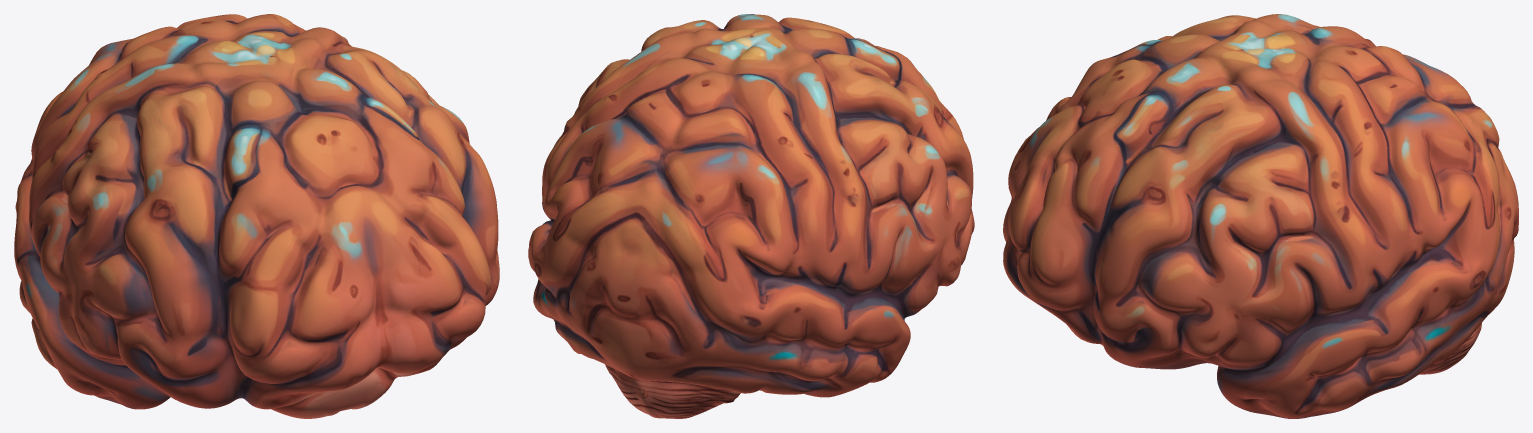
The model's file is brain.fbx.
The picture shows the model from 3 angles, left to right: view 1: azimuth 30°, elevation 25°; view 2: azimuth 150°, elevation 25°; view 3: azimuth 270°, elevation 25°; orthographic projection. The views are drawn at different scales.
Visible parts, largest first — view 1: tripo_node_d61bd982; view 2: tripo_node_d61bd982; view 3: tripo_node_d61bd982.
Boxes of the visible parts, bbox=[...] form: tripo_node_d61bd982: bbox=[14, 14, 499, 418]; tripo_node_d61bd982: bbox=[528, 14, 974, 418]; tripo_node_d61bd982: bbox=[1003, 14, 1518, 418].
Bounding box in the file's own units: 85.23 × 68.28 × 99.95.
1 material, 1 textured.
